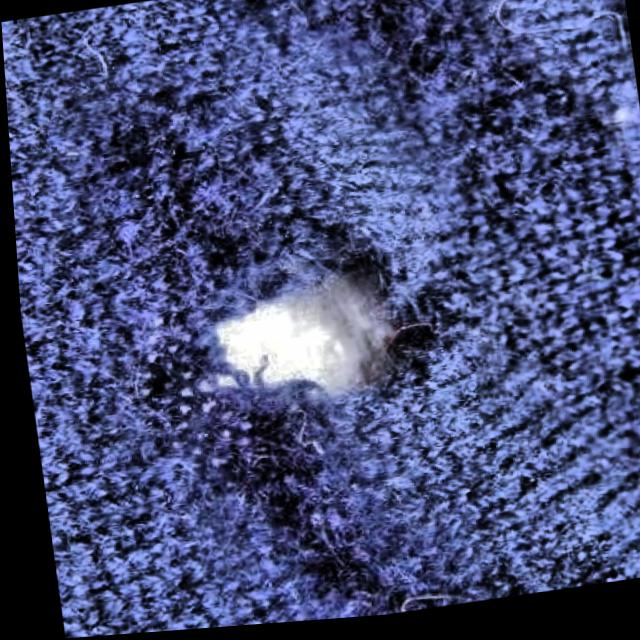Hole: (46, 137, 550, 536)
